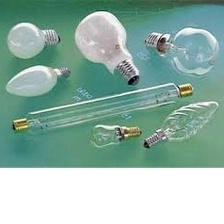light_bulb: (8, 80, 197, 139), (71, 5, 143, 87), (141, 98, 222, 153), (142, 28, 223, 80), (2, 19, 62, 63), (3, 63, 74, 99), (84, 120, 145, 148)
